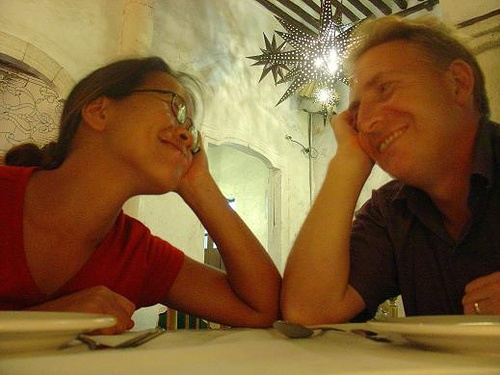person: (1, 56, 286, 329), (283, 15, 500, 328)
person/hand: (65, 286, 138, 328), (333, 100, 377, 165), (178, 136, 215, 197), (464, 273, 500, 316)
person/head: (347, 41, 483, 176), (77, 63, 206, 199)
